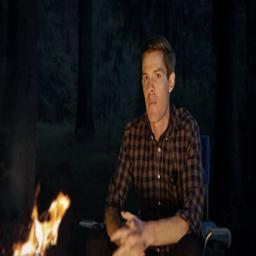fire: (11, 188, 70, 256)
